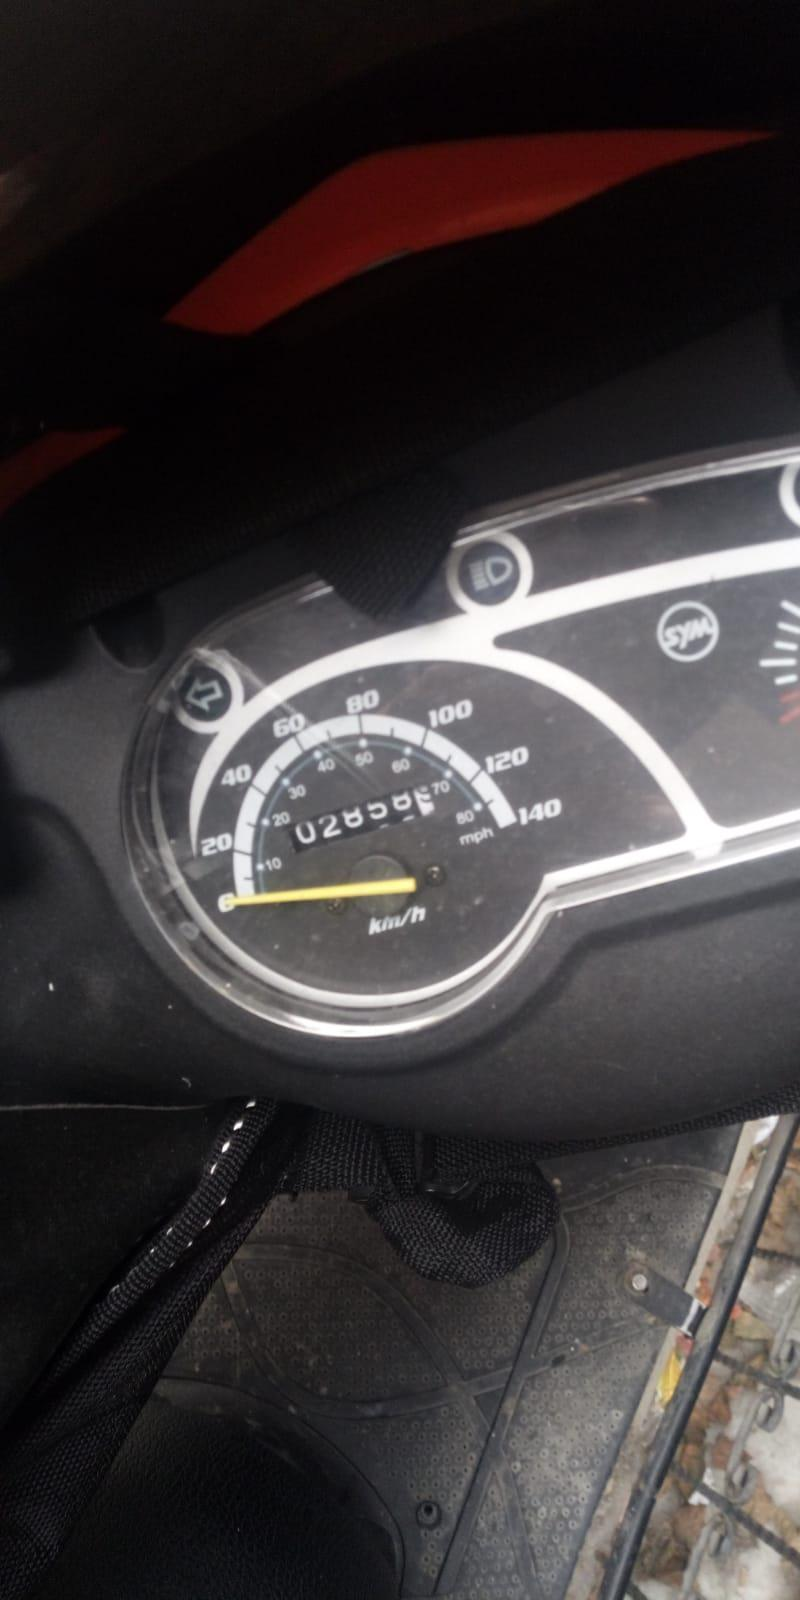0: (293, 822, 317, 844), (296, 783, 306, 796), (281, 811, 290, 823)
2: (318, 814, 341, 838)
3: (287, 786, 297, 799)
5: (367, 797, 388, 820)
8: (340, 805, 365, 828), (391, 787, 412, 811)
9: (415, 783, 435, 803)
odometer: (282, 780, 436, 855)
